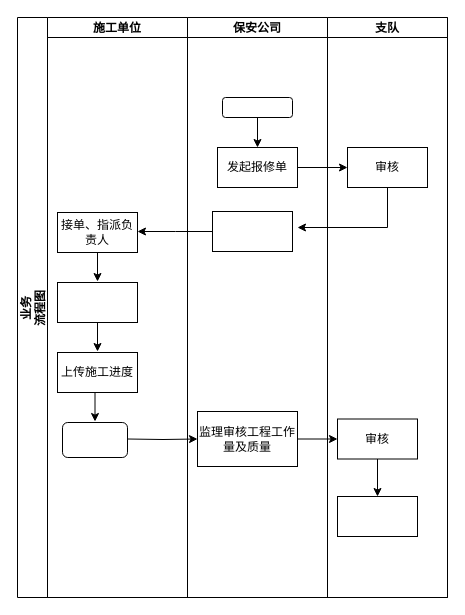
Some shapes in this 465 by 615 pixel diagram are drawn without their labels. The shapes that lost their labels are listed below. From the top down, each one's centre as x and y in pixels, then its label:
point 257,107: 开始
point 252,231: 派单
point 97,302: 施工
point 95,440: 施工完成
point 377,516: 结束
